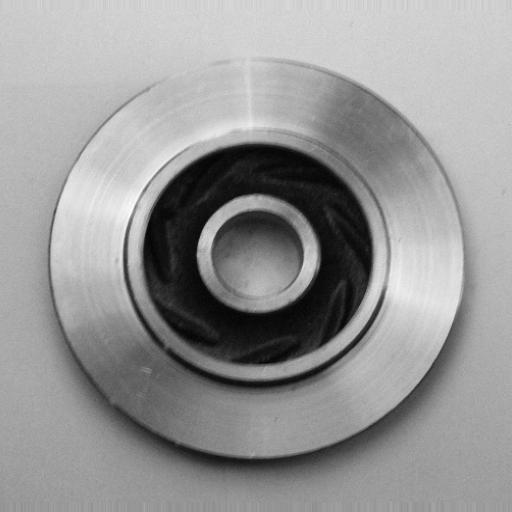unpolished_casting: (45, 54, 467, 464)
